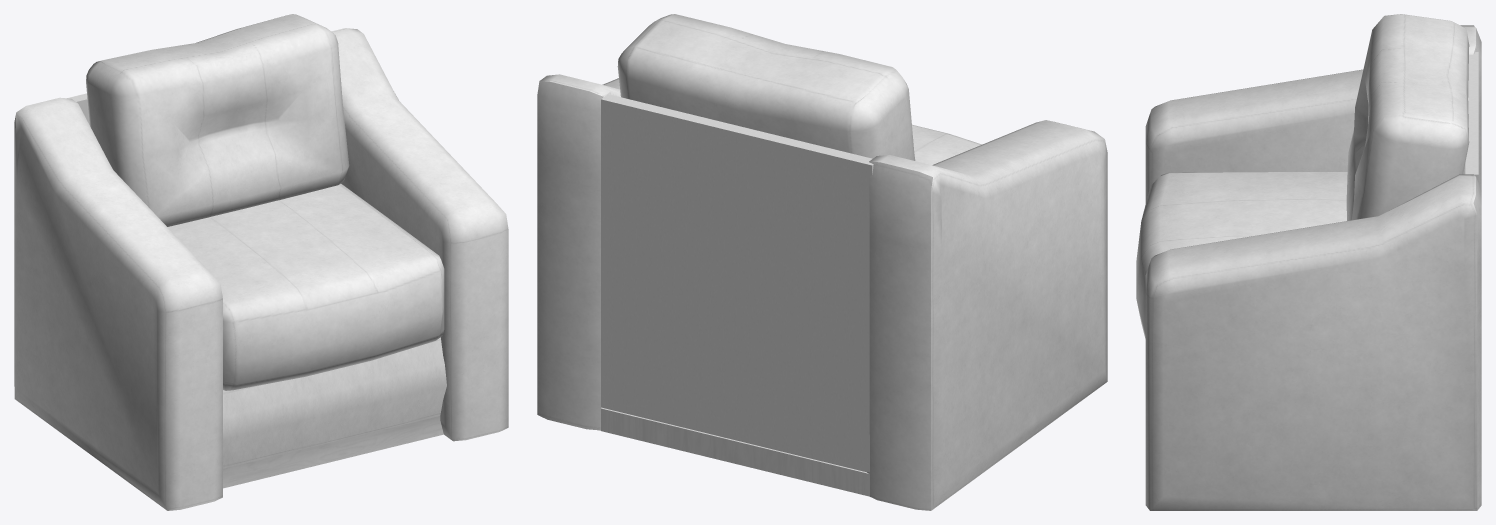
The model's file is Sofa06_3.FBX.
The picture shows the model from 3 angles, left to right: view 1: azimuth 30°, elevation 25°; view 2: azimuth 150°, elevation 25°; view 3: azimuth 270°, elevation 25°; orthographic projection. The views are drawn at different scales.
Parts seen in each view (by area): view 1: Sofa06_3; view 2: Sofa06_3; view 3: Sofa06_3.
Boxes of the visible parts, x1,y1,x2,y2 form: Sofa06_3: (14, 14, 508, 510); Sofa06_3: (537, 14, 1107, 510); Sofa06_3: (1136, 14, 1481, 510).
Bounding box in the file's own units: 115 × 106 × 92.21.
